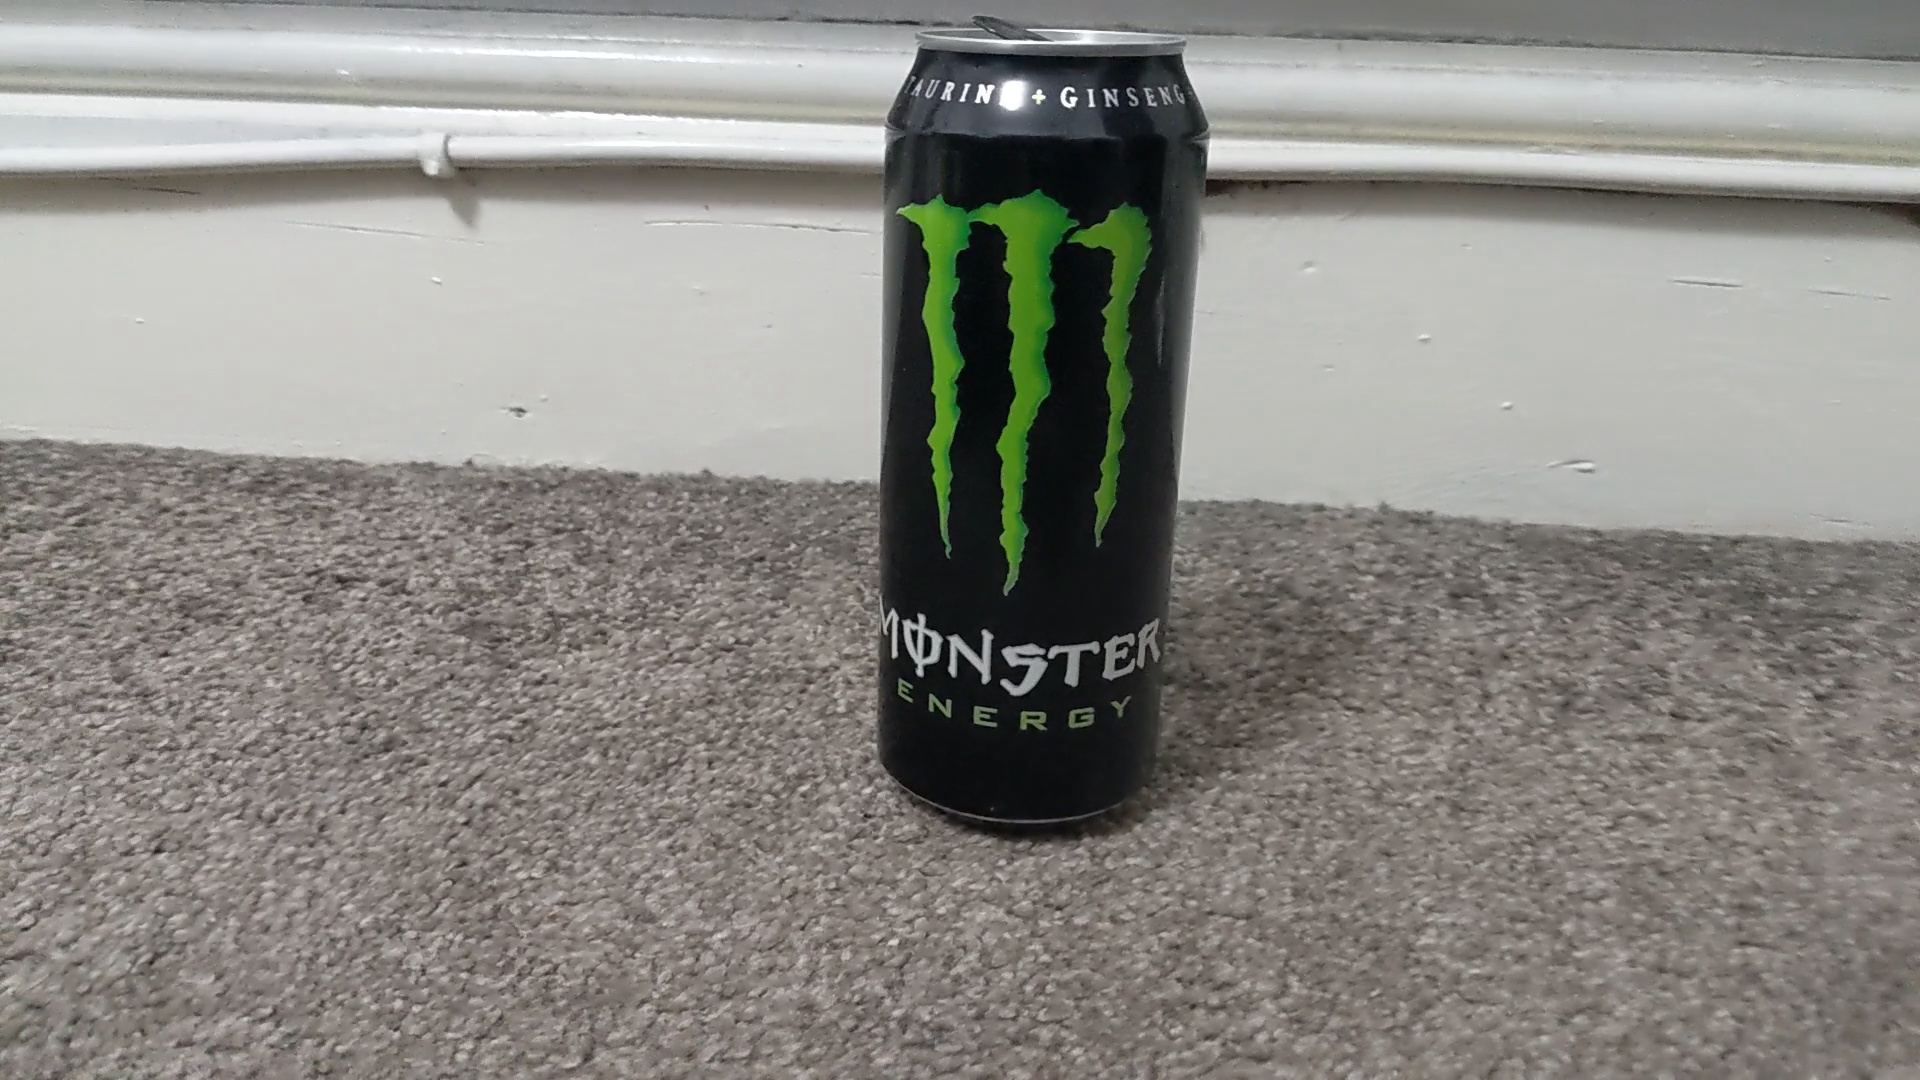monster-original: (876, 34, 1212, 829)
